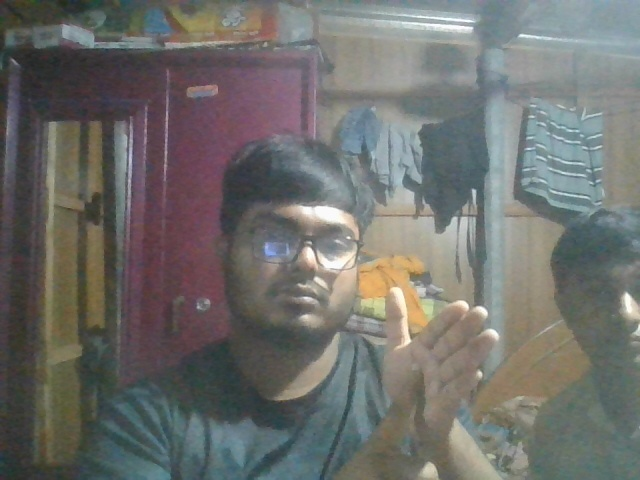r: (345, 281, 529, 480)
